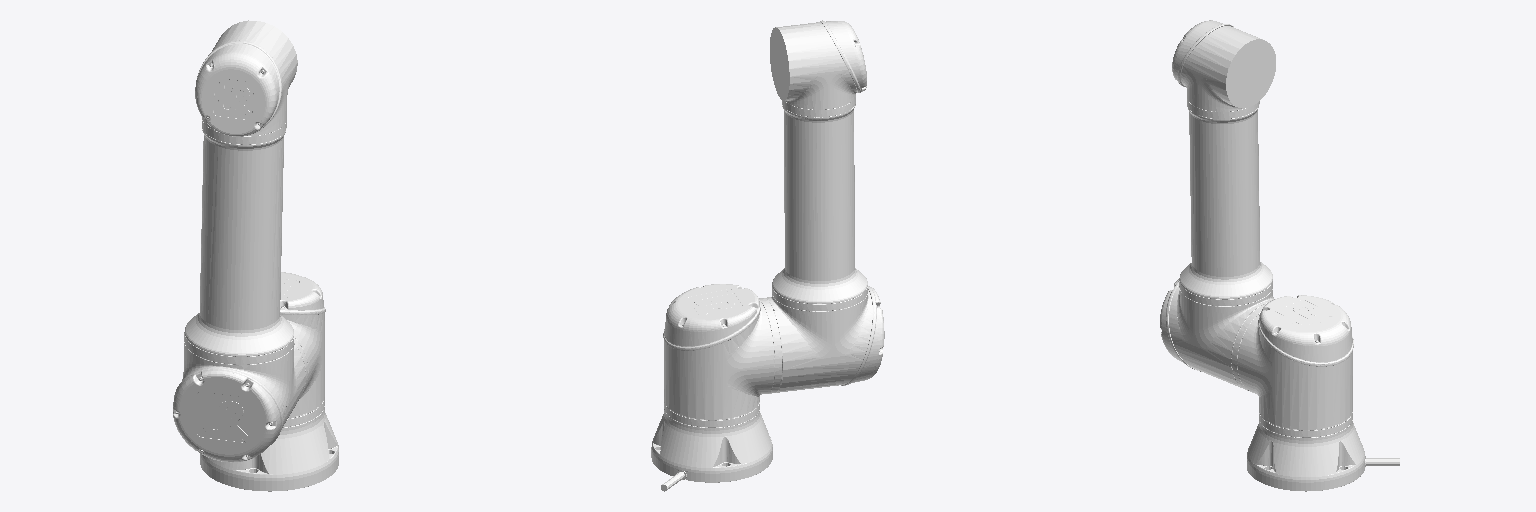
The robot description file, URDF, robot "robot2":
<?xml version="1.0" encoding="utf-8"?>
<!-- This URDF was automatically created by SolidWorks to URDF Exporter! Originally created by [author] ([email redacted]) 
     Commit Version: 1.6.0-4-g7f85cfe  Build Version: 1.6.7995.38578
     For more information, please see http://wiki.ros.org/sw_urdf_exporter -->
<robot
  name="robot2">
  <link
    name="base_link">
    <inertial>
      <origin
        xyz="-0.0701829147785119 0.0509547676769668 0.12781073514068"
        rpy="0 0 0" />
      <mass
        value="1.24817506212786" />
      <inertia
        ixx="0.00337795459495386"
        ixy="-7.63530306910811E-07"
        ixz="2.62159249188306E-06"
        iyy="0.00367217131754412"
        iyz="0.000119973959588174"
        izz="0.00510242704517102" />
    </inertial>
    <visual>
      <origin
        xyz="0 0 0"
        rpy="0 0 0" />
      <geometry>
        <mesh
          filename="package://example_urdf_description/urdf/base_link.STL" />
      </geometry>
      <material
        name="">
        <color
          rgba="1 1 1 1" />
      </material>
    </visual>
    <collision>
      <origin
        xyz="0 0 0"
        rpy="0 0 0" />
      <geometry>
        <mesh
          filename="package://example_urdf_description/urdf/base_link.STL" />
      </geometry>
    </collision>
  </link>
  <link
    name="link1">
    <inertial>
      <origin
        xyz="-5.91252113768537E-07 0.0822549076127321 0.0130939326706805"
        rpy="0 0 0" />
      <mass
        value="3.45633560104234" />
      <inertia
        ixx="0.0140386764717093"
        ixy="-3.70559606285327E-08"
        ixz="2.62624158988822E-07"
        iyy="0.0118933802335214"
        iyz="-0.000227442711188719"
        izz="0.0124437380528522" />
    </inertial>
    <visual>
      <origin
        xyz="0 0 0"
        rpy="0 0 0" />
      <geometry>
        <mesh
          filename="package://example_urdf_description/urdf/link1.STL" />
      </geometry>
      <material
        name="">
        <color
          rgba="1 1 1 1" />
      </material>
    </visual>
    <collision>
      <origin
        xyz="0 0 0"
        rpy="0 0 0" />
      <geometry>
        <mesh
          filename="package://example_urdf_description/urdf/link1.STL" />
      </geometry>
    </collision>
  </link>
  <joint
    name="joint1"
    type="continuous">
    <origin
      xyz="-0.0702629032816481 0.0488280110823862 0.168097564394159"
      rpy="1.5707963267949 0 -0.771225038056414" />
    <parent
      link="base_link" />
    <child
      link="link1" />
    <axis
      xyz="0 1 0" />
  </joint>
  <link
    name="link2">
    <inertial>
      <origin
        xyz="1.70229410101363E-06 0.18974678071681 -0.00353997730750166"
        rpy="0 0 0" />
      <mass
        value="8.08752965176624" />
      <inertia
        ixx="0.285723822163904"
        ixy="-2.05110800014771E-06"
        ixz="2.25782177967759E-07"
        iyy="0.0206370446473606"
        iyz="0.000578891768871088"
        izz="0.28305748909231" />
    </inertial>
    <visual>
      <origin
        xyz="0 0 0"
        rpy="0 0 0" />
      <geometry>
        <mesh
          filename="package://example_urdf_description/urdf/link2.STL" />
      </geometry>
      <material
        name="">
        <color
          rgba="1 1 1 1" />
      </material>
    </visual>
    <collision>
      <origin
        xyz="0 0 0"
        rpy="0 0 0" />
      <geometry>
        <mesh
          filename="package://example_urdf_description/urdf/link2.STL" />
      </geometry>
    </collision>
  </link>
  <joint
    name="joint2"
    type="continuous">
    <origin
      xyz="0 0.0814000000000002 0.179787490905011"
      rpy="0 0 -0.0211286164016568" />
    <parent
      link="link1" />
    <child
      link="link2" />
    <axis
      xyz="0 0 1" />
  </joint>
</robot>

--- Facts derived from the render (not from the file) ---
Views: 3 orthographic renders of the robot side by side, from view 1: azimuth 30°, elevation 25°; view 2: azimuth 150°, elevation 25°; view 3: azimuth 270°, elevation 25°.
Robot: robot2 — 3 links, 2 joints (2 continuous); root link base_link; default pose: every joint at zero.
Links seen in each view (by area): view 1: link2, base_link, link1; view 2: link2, link1, base_link; view 3: link2, link1, base_link.
Link boxes in pixels (x1,y1,x2,y2): link2: (173, 20, 305, 462); base_link: (200, 397, 338, 491); link1: (280, 272, 325, 417); link2: (767, 20, 884, 392); link1: (663, 284, 782, 419); base_link: (651, 402, 772, 491); link2: (1160, 20, 1275, 387); link1: (1231, 295, 1353, 429); base_link: (1247, 412, 1399, 491).
Bounding box of the posed robot: 0.3248 × 0.3844 × 0.7193 m (x, y, z).
Meshes: 3 distinct files referenced, 3 mesh visuals loaded (3 binary STL).